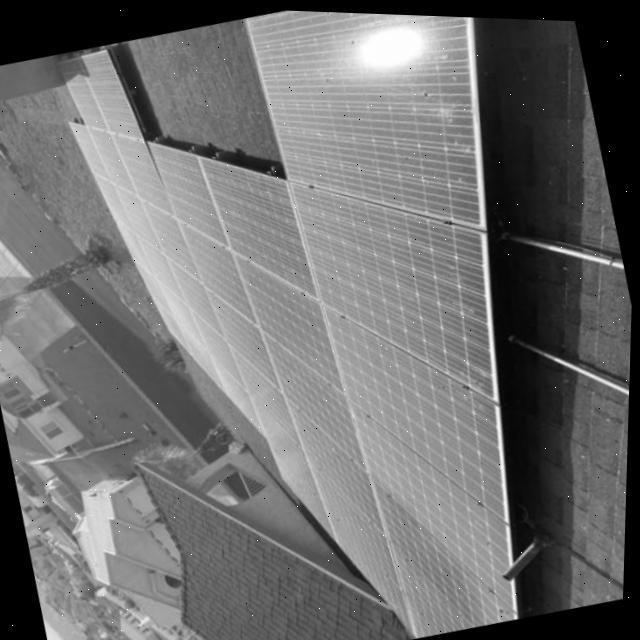Anomaly Solar Panel: (57, 8, 517, 636)
Surface Contaminant: (244, 8, 516, 636), (198, 158, 413, 629), (56, 49, 262, 433), (145, 143, 335, 538)
